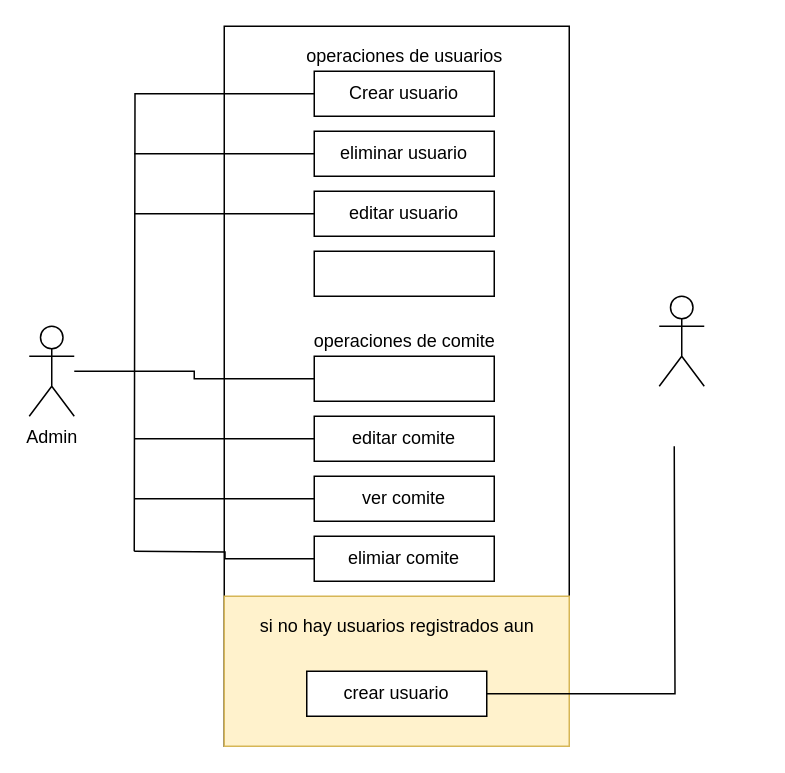
This 785x773 diagram has some shape labels left out. The shapes that lost their labels are listed below. From the top down, each one's centre as x and y in pixels, then its label:
the point at 403,273: ver usuario
the point at 681,340: Usuario externo sin sesión iniciada
the point at 403,378: crear comite
